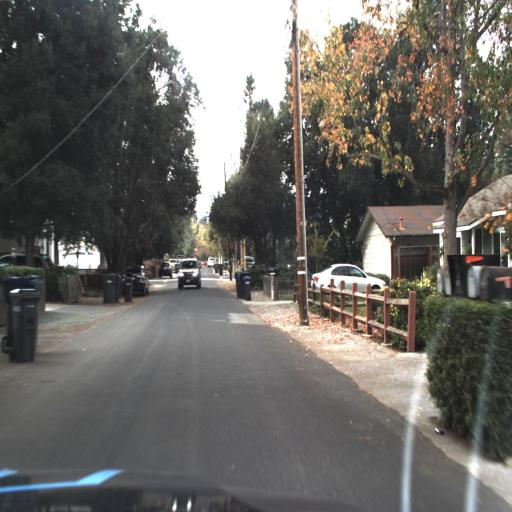car: (310, 258, 391, 297), (176, 254, 204, 290), (123, 265, 152, 297), (156, 260, 172, 279), (239, 255, 254, 274), (206, 255, 215, 269)
